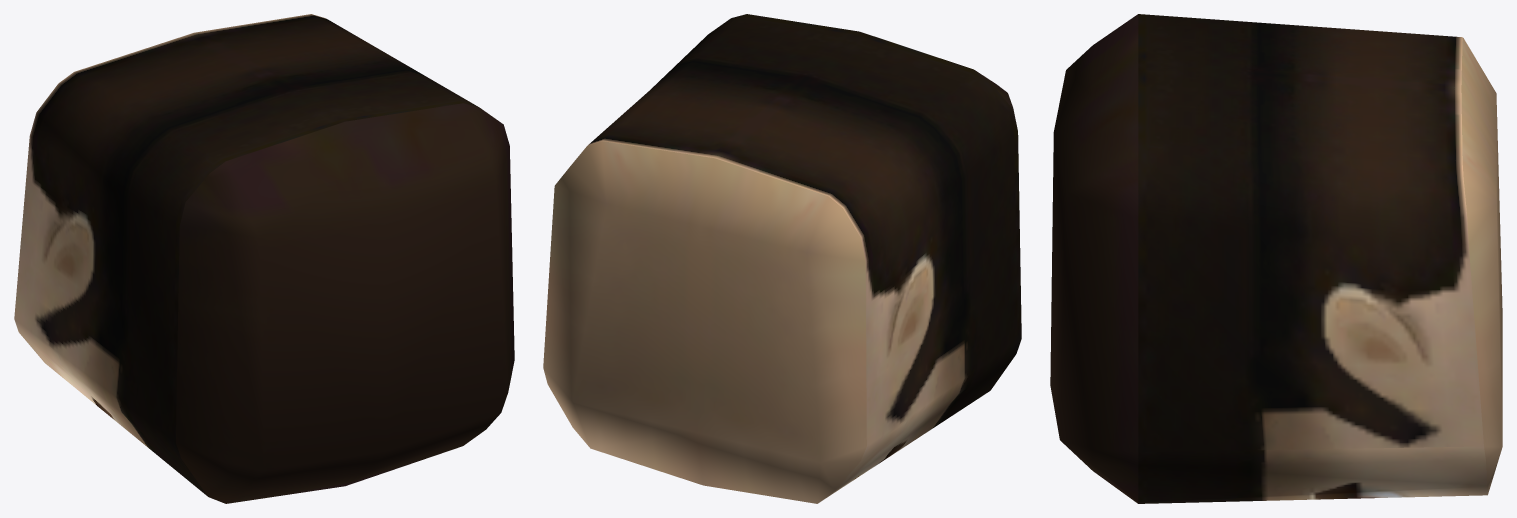
Rendered from Avatar_Mike_H_Head_0_7cd0da4a__Avatar_Mike_8e0cbdb5_c1f257.obj.
3 views of the same model, side by side, from view 1: azimuth 30°, elevation 25°; view 2: azimuth 150°, elevation 25°; view 3: azimuth 270°, elevation 25° (orthographic). The views are drawn at different scales.
Bounding box in the file's own units: 0.6857 × 0.7049 × 0.7416.
Materials: 1 (1 with a texture image).
